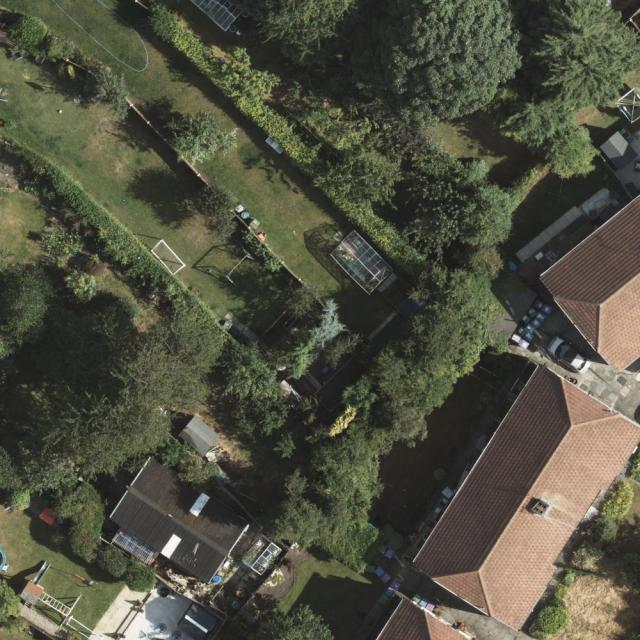roof: (407, 362, 640, 633), (539, 192, 640, 377), (108, 456, 250, 586), (375, 595, 483, 640)
